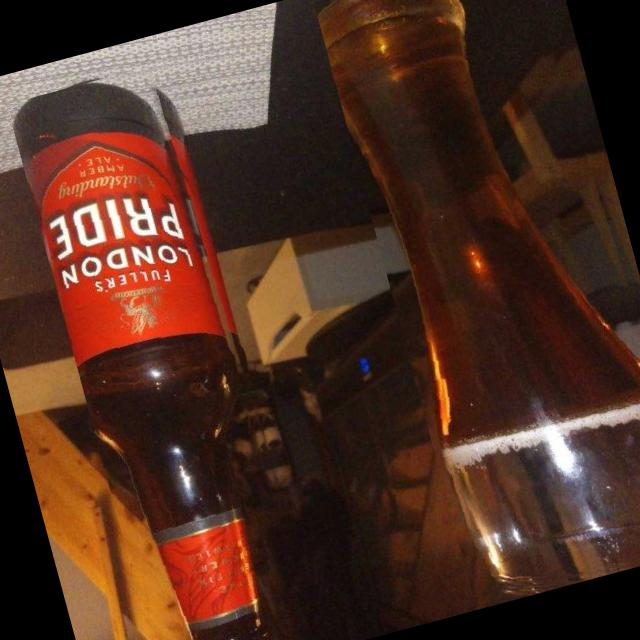Glass: (312, 0, 640, 609), (5, 59, 327, 640)
